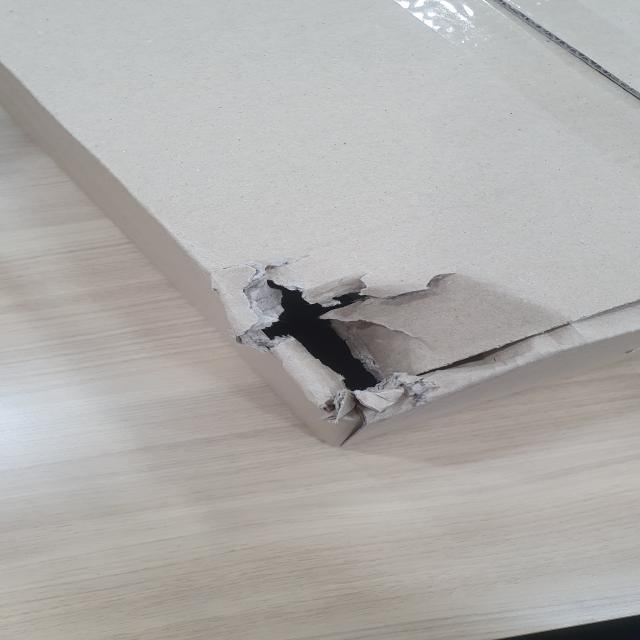hole: (224, 255, 551, 429)
